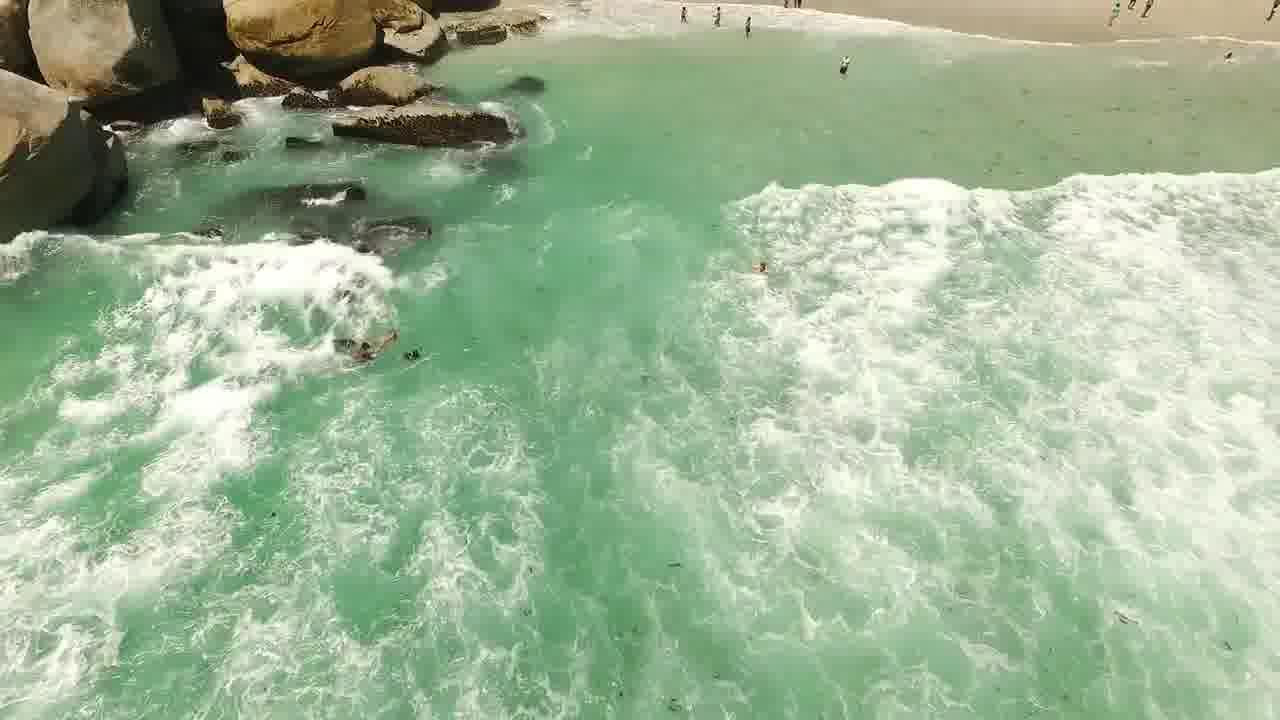human: (393, 330, 442, 379), (833, 46, 869, 99), (341, 332, 377, 370), (746, 248, 775, 285), (1215, 45, 1243, 75), (700, 0, 728, 29), (736, 13, 763, 37), (672, 10, 689, 24)
